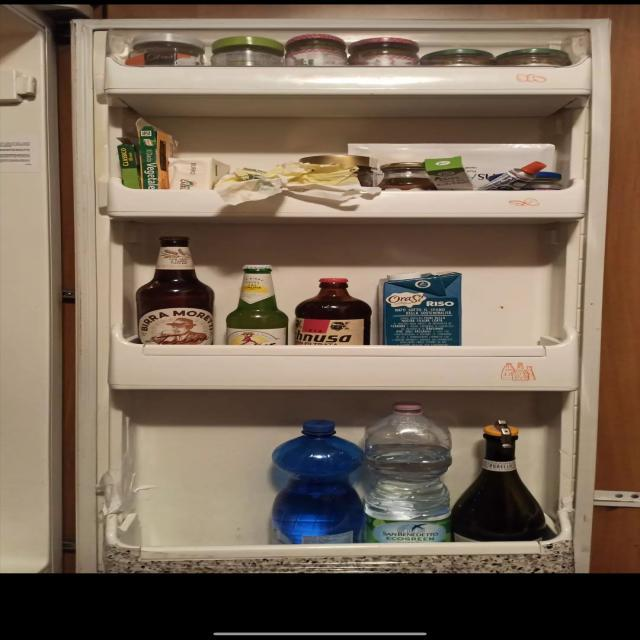butter: (164, 158, 235, 194)
milk: (373, 270, 473, 352)
